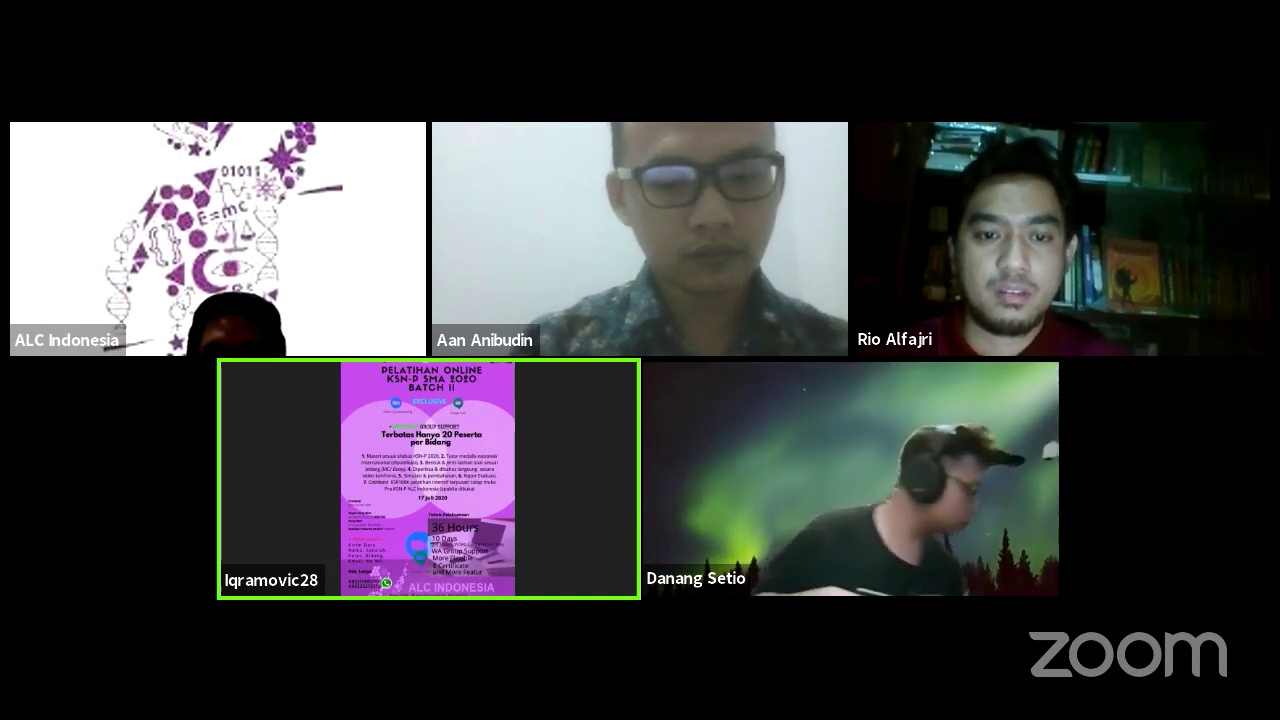Distracted: (895, 424, 1003, 539)
Not Distracted: (599, 129, 799, 297), (944, 144, 1085, 325)
